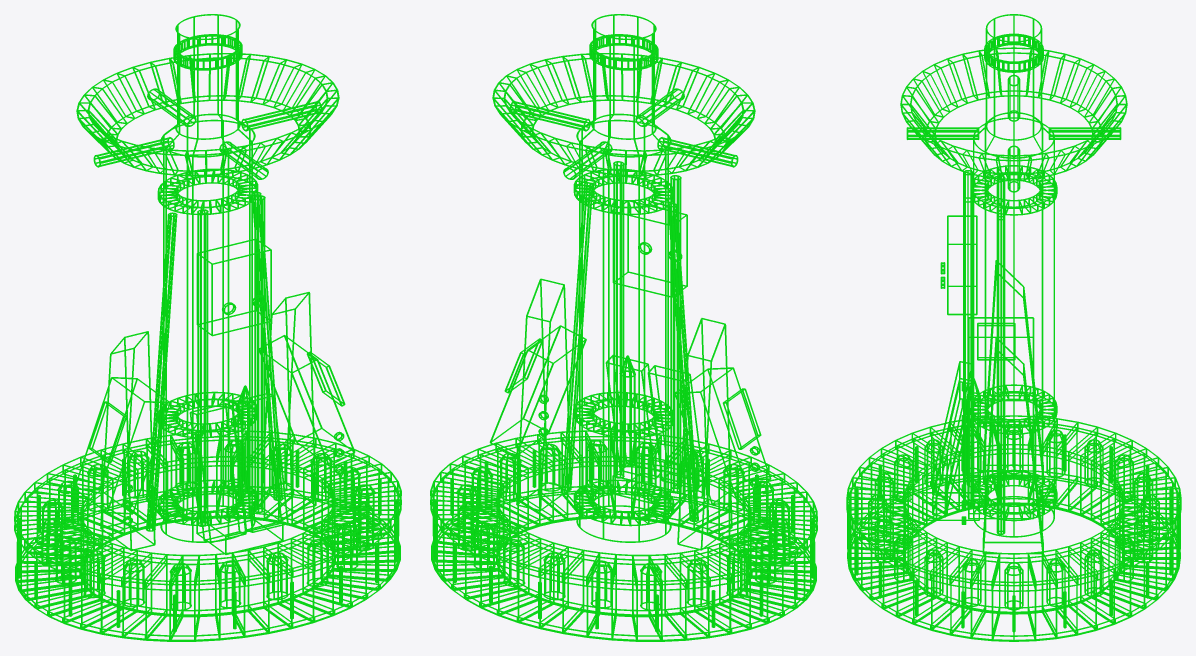
File: missile-bay-extension-wireframe.glb
3 views of the same model, side by side, from view 1: azimuth 30°, elevation 25°; view 2: azimuth 150°, elevation 25°; view 3: azimuth 270°, elevation 25° (orthographic).
Visible parts, largest first — view 1: revolving-storage-rack technical wire, chassis technical wire, missile-loading-assembly technical wire, targeting-control technical wire; view 2: revolving-storage-rack technical wire, chassis technical wire, missile-loading-assembly technical wire, targeting-control technical wire; view 3: revolving-storage-rack technical wire, chassis technical wire, missile-loading-assembly technical wire, targeting-control technical wire.
Boxes of the visible parts, left/top/right/bottom form: revolving-storage-rack technical wire: left=14, top=430, right=401, bottom=641; chassis technical wire: left=76, top=14, right=339, bottom=551; missile-loading-assembly technical wire: left=189, top=195, right=288, bottom=554; targeting-control technical wire: left=73, top=335, right=355, bottom=525; revolving-storage-rack technical wire: left=430, top=430, right=817, bottom=641; chassis technical wire: left=492, top=14, right=755, bottom=550; missile-loading-assembly technical wire: left=605, top=161, right=703, bottom=508; targeting-control technical wire: left=489, top=325, right=771, bottom=504; revolving-storage-rack technical wire: left=846, top=415, right=1181, bottom=641; chassis technical wire: left=900, top=14, right=1127, bottom=554; missile-loading-assembly technical wire: left=922, top=170, right=980, bottom=520; targeting-control technical wire: left=961, top=317, right=1034, bottom=524.
Size of the model in its own units: 2.45 by 3.64 by 2.08.
